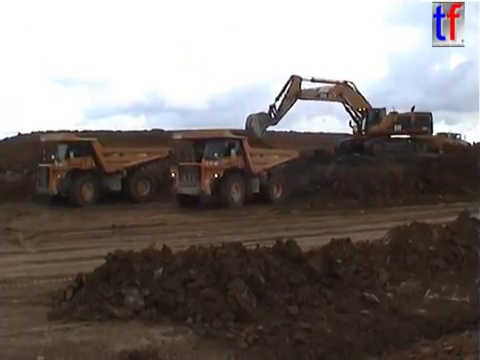excavator: (243, 73, 436, 160)
truck: (34, 130, 172, 208), (166, 128, 300, 207), (423, 131, 467, 149)
